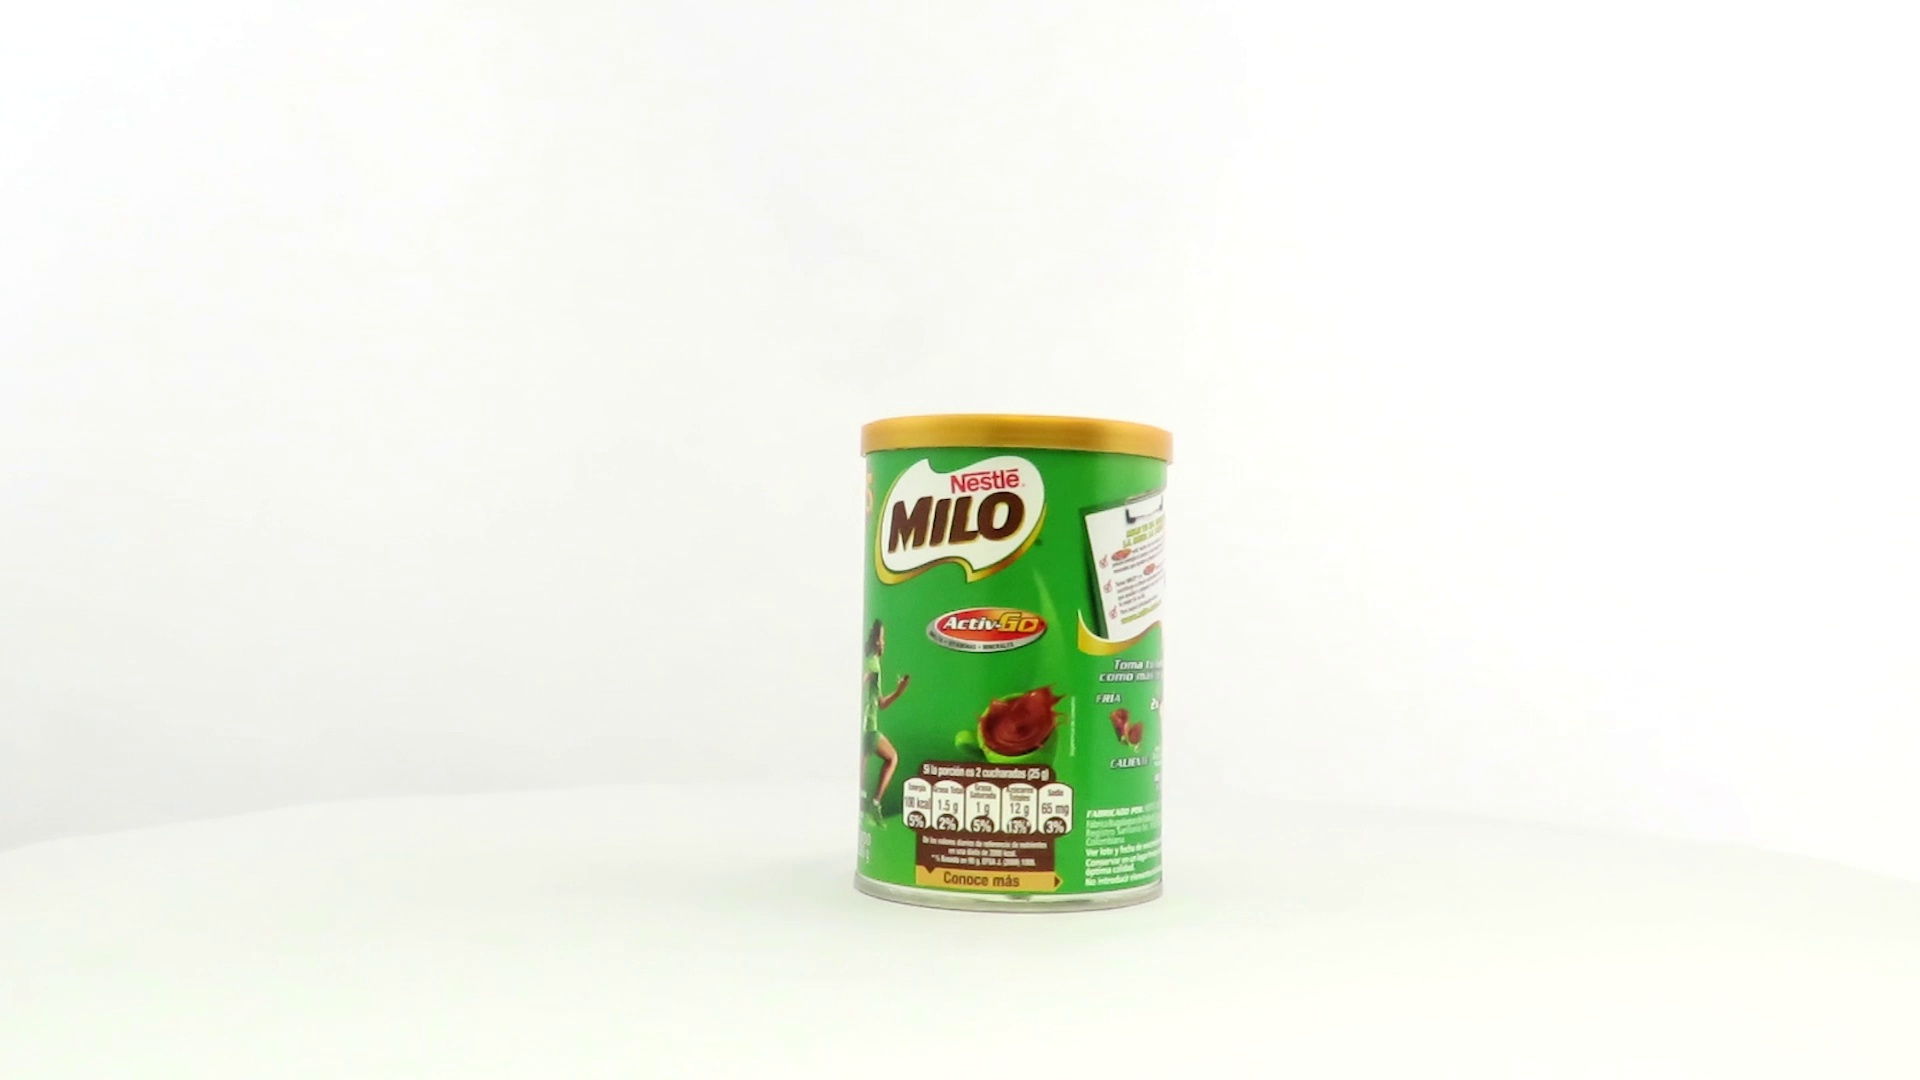COL0170203LAT20000: (848, 407, 1179, 920)
